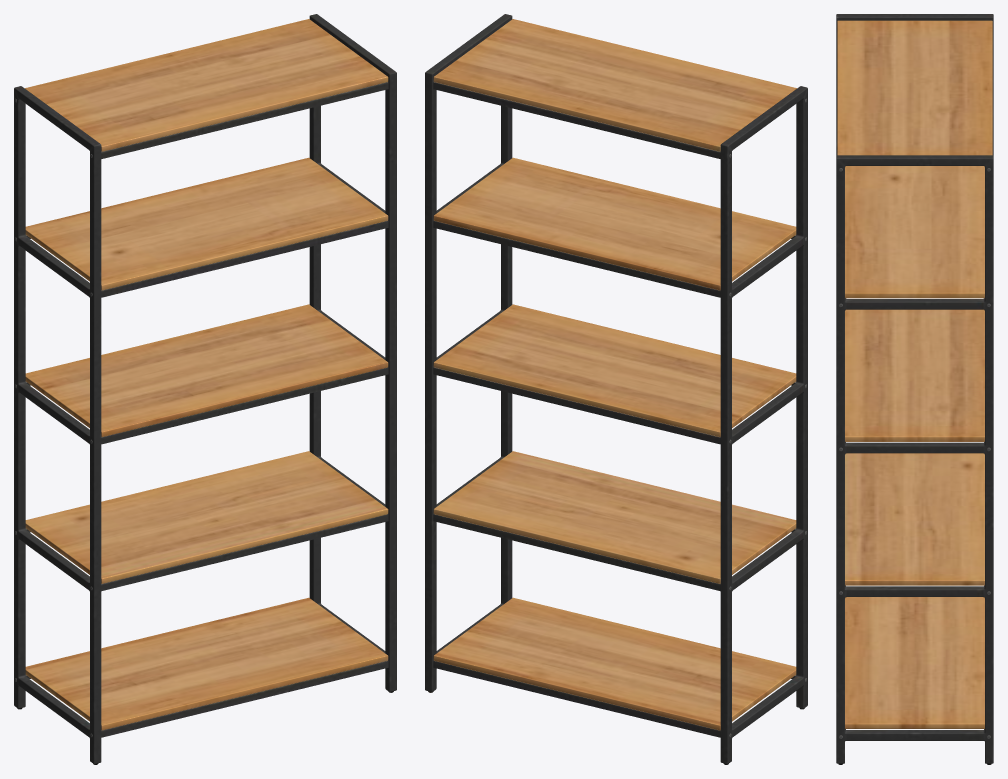
File: steel-shelving.glb
3 renders of one model, left to right at view 1: azimuth 30°, elevation 25°; view 2: azimuth 150°, elevation 25°; view 3: azimuth 270°, elevation 25°, orthographic. The views are drawn at different scales.
Parts seen in each view (by area): view 1: steel_frame_shelves_01; view 2: steel_frame_shelves_01; view 3: steel_frame_shelves_01.
Part boxes in pixels (left/top/right/bottom): steel_frame_shelves_01: left=14, top=14, right=396, bottom=764; steel_frame_shelves_01: left=425, top=14, right=807, bottom=764; steel_frame_shelves_01: left=836, top=14, right=993, bottom=764.
Size of the model in its own units: 10.97 by 21.41 by 5.02.
1 material, 1 textured.
